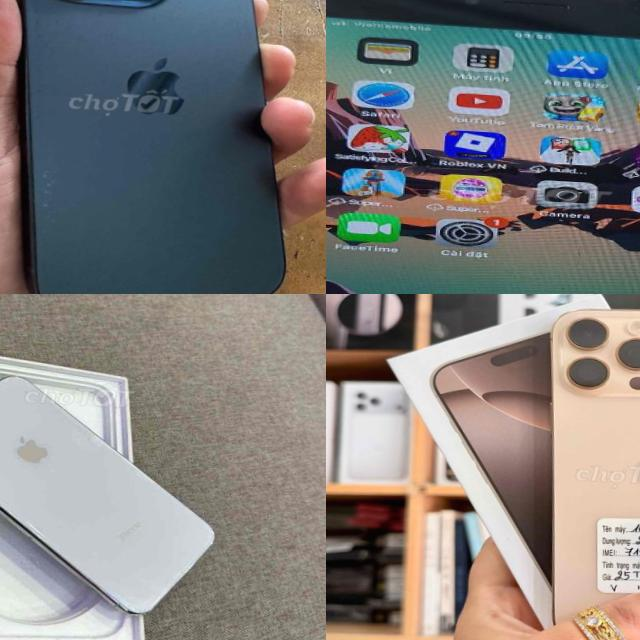gen_15: (0, 0, 317, 294)
gen_16: (530, 298, 640, 640)
gen_6: (326, 0, 640, 294)
gen_x_xs: (0, 360, 251, 630)
